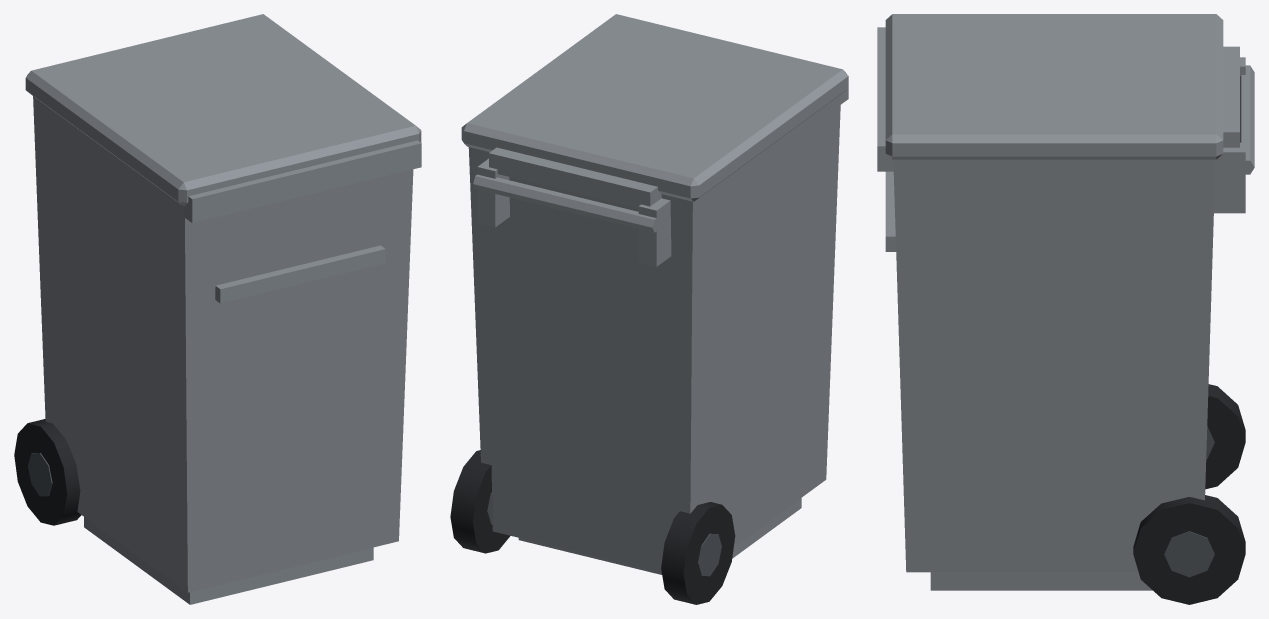
Rendered from SC_Util_Trash_Bin_120L_Gray.gltf.
3 renders of one model, left to right at view 1: azimuth 30°, elevation 25°; view 2: azimuth 150°, elevation 25°; view 3: azimuth 270°, elevation 25°, orthographic. The views are drawn at different scales.
Visible parts, largest first — view 1: SC_Util_Trash_Bin_120L_Gray; view 2: SC_Util_Trash_Bin_120L_Gray; view 3: SC_Util_Trash_Bin_120L_Gray.
Boxes of the visible parts, left/top/right/bottom form: SC_Util_Trash_Bin_120L_Gray: left=14, top=14, right=421, bottom=604; SC_Util_Trash_Bin_120L_Gray: left=450, top=14, right=848, bottom=604; SC_Util_Trash_Bin_120L_Gray: left=877, top=14, right=1254, bottom=604.
Size of the model in its own units: 0.53 by 0.92 by 0.671.
Materials: 2 (2 with a texture image).
